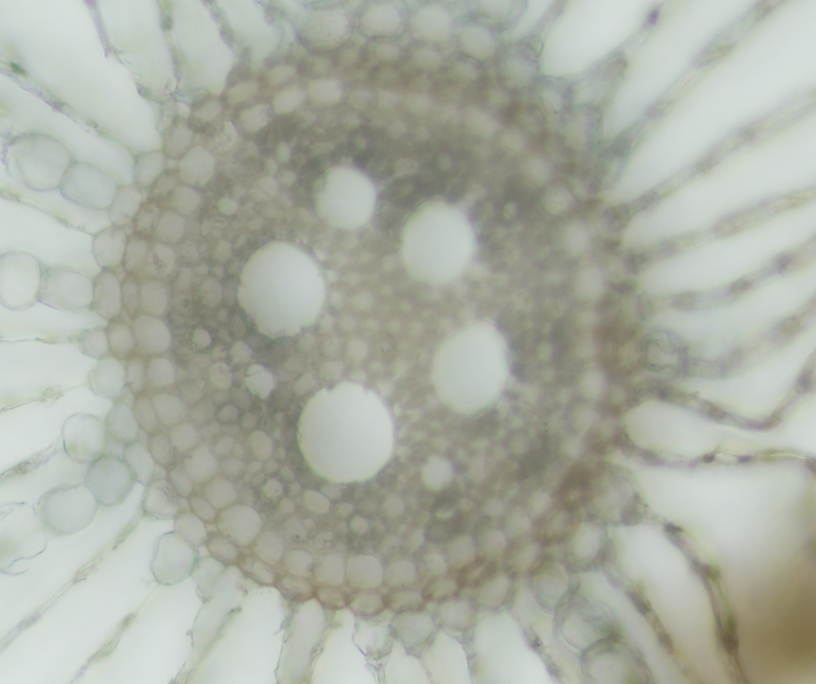lm: (297, 380, 394, 484), (236, 239, 326, 339), (430, 319, 510, 414), (399, 195, 476, 287), (310, 163, 376, 231)
